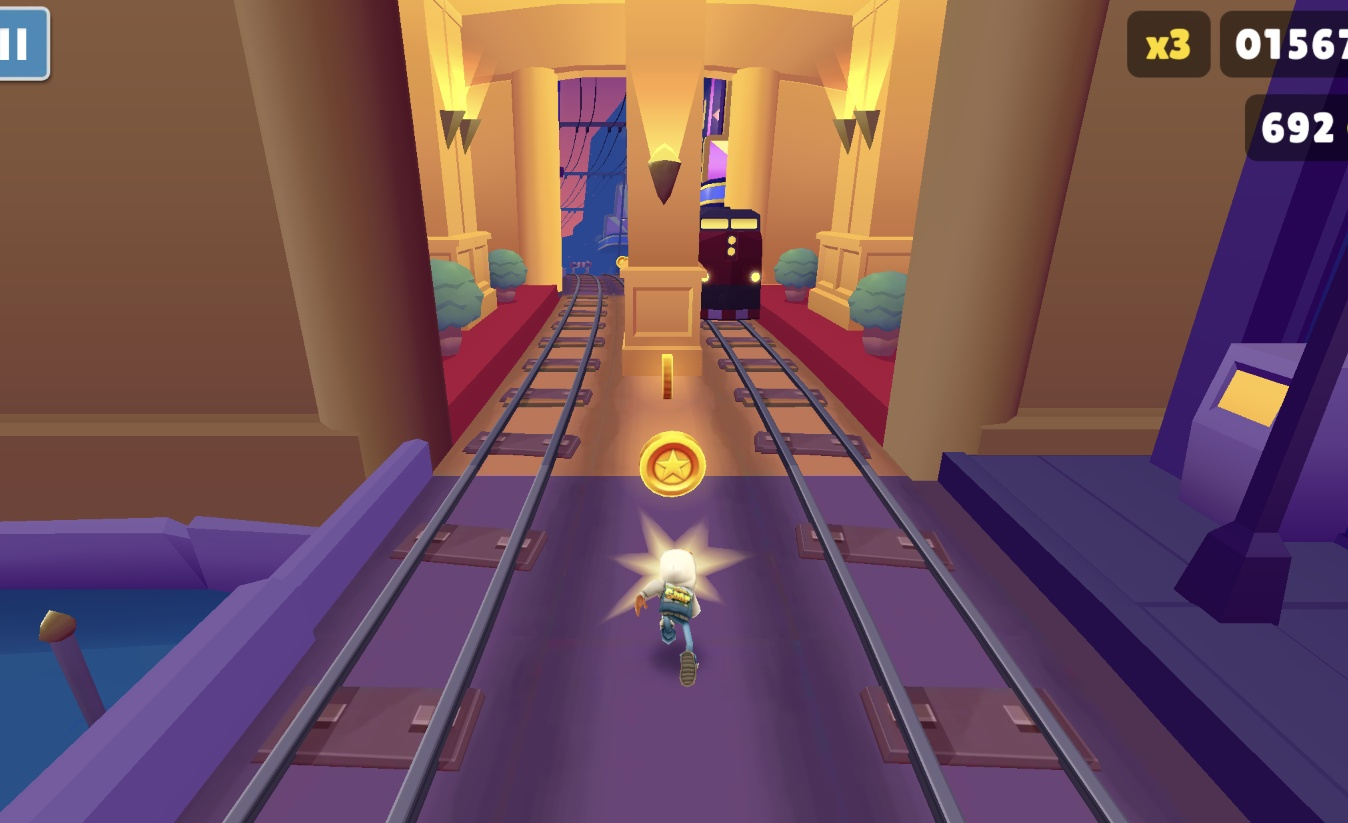ground_barrier: (570, 260, 593, 273)
pillar: (620, 0, 704, 380)
train: (701, 207, 765, 320)
